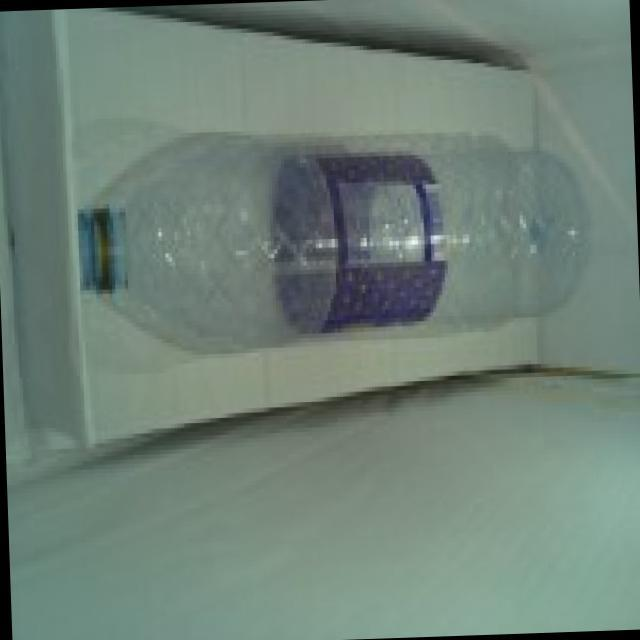good: (35, 101, 600, 380)
